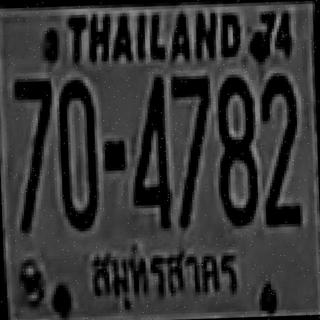N04: (126, 72, 171, 228)
N07: (168, 72, 210, 163), (12, 76, 52, 170), (168, 74, 210, 155), (12, 76, 51, 160)
N08: (214, 75, 256, 224), (215, 100, 256, 223)
P58: (79, 235, 252, 313)
